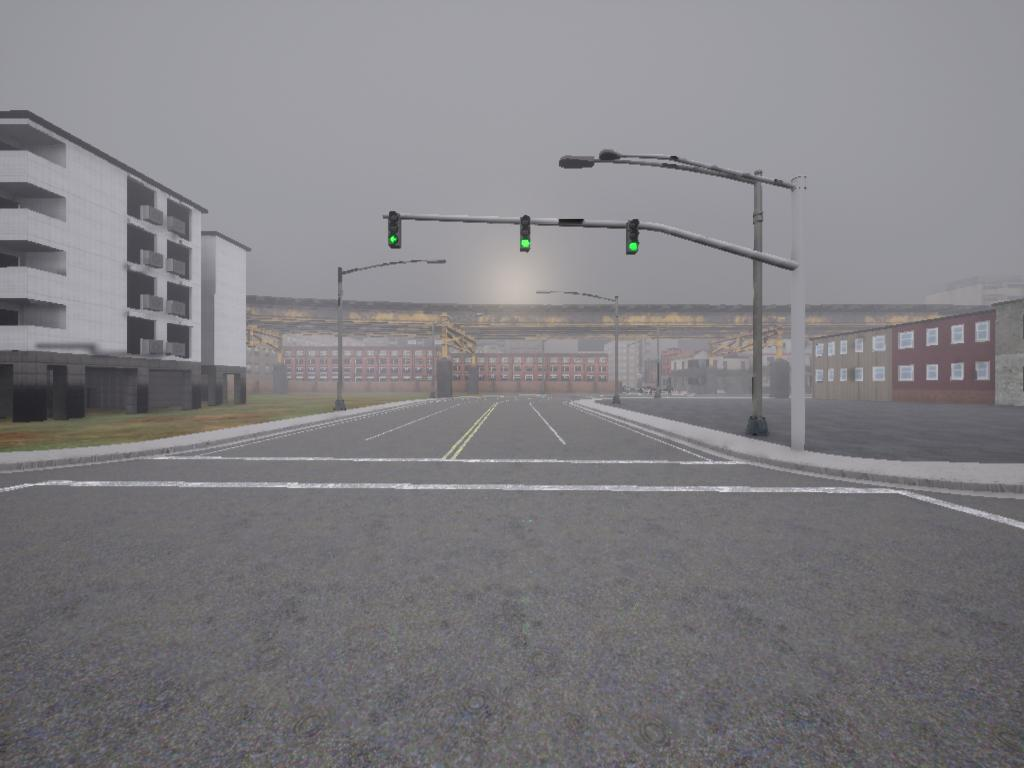traffic_light: (520, 218, 535, 255), (388, 216, 403, 250), (630, 222, 643, 256)
